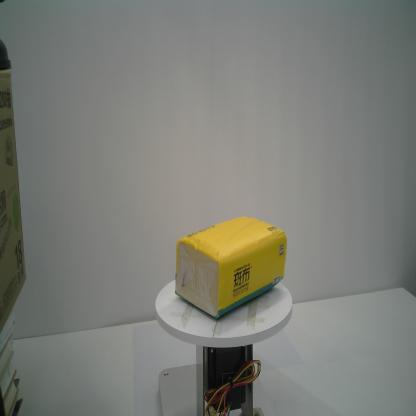Tissue: (174, 214, 289, 322)
